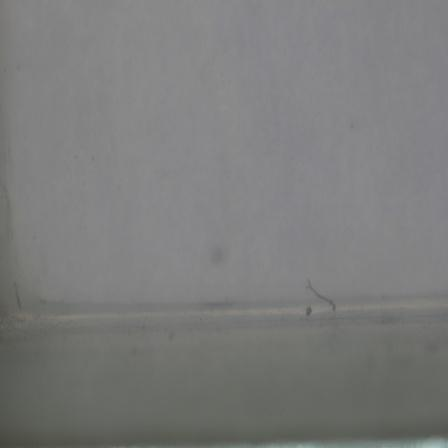Jentik-Nyamuk: (308, 276, 339, 312)
